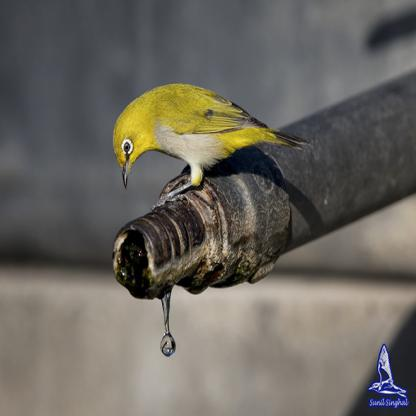Burung: (112, 82, 308, 213)
